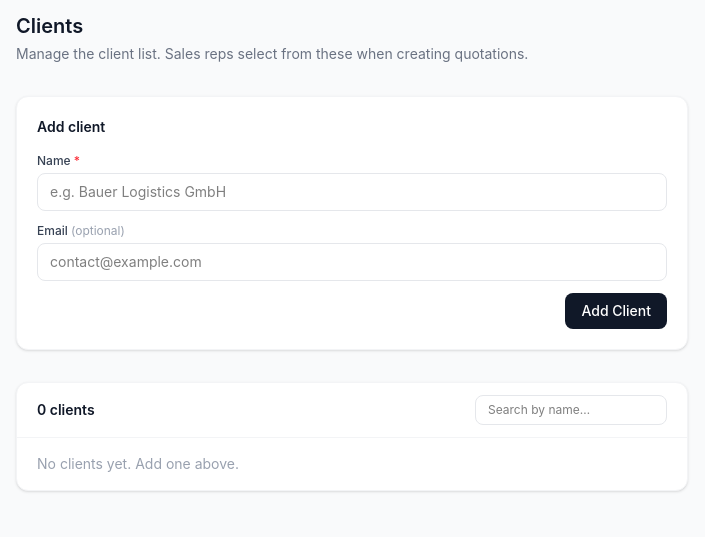
Test: ClientsPage › shows error when mutation fails
Type "Bad Corp" into the field with placeholder "e.g. Bauer Logistics GmbH" at {"x": 352, "y": 192}, box [37,173,667,211]
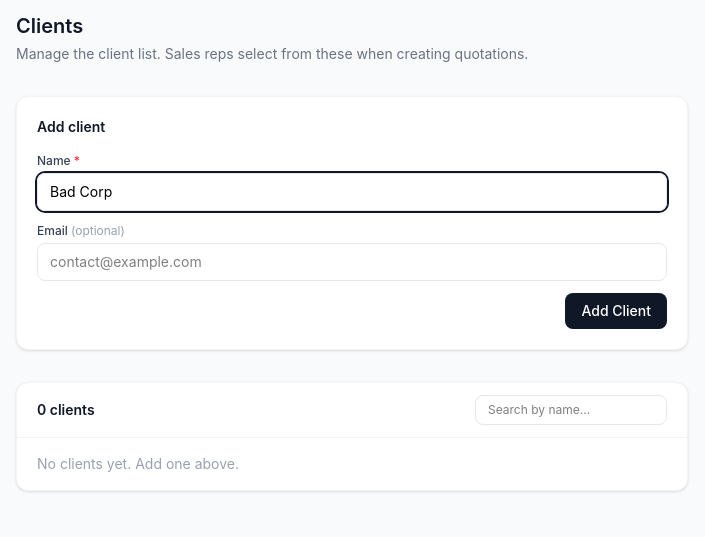
Click the button "Add Client" at {"x": 616, "y": 311}, box [565,293,667,329]
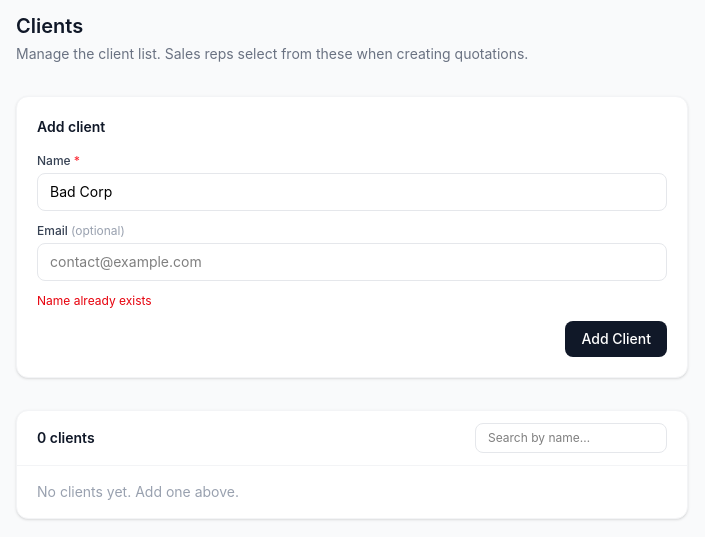
Expected: the text "Name already exists" is shown, [37,293,152,308]
